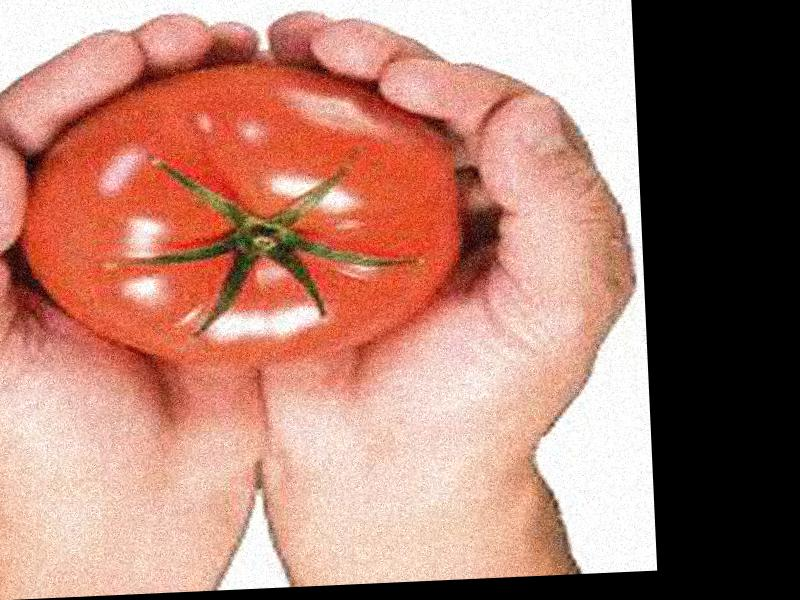Tomato: (13, 58, 470, 371)
